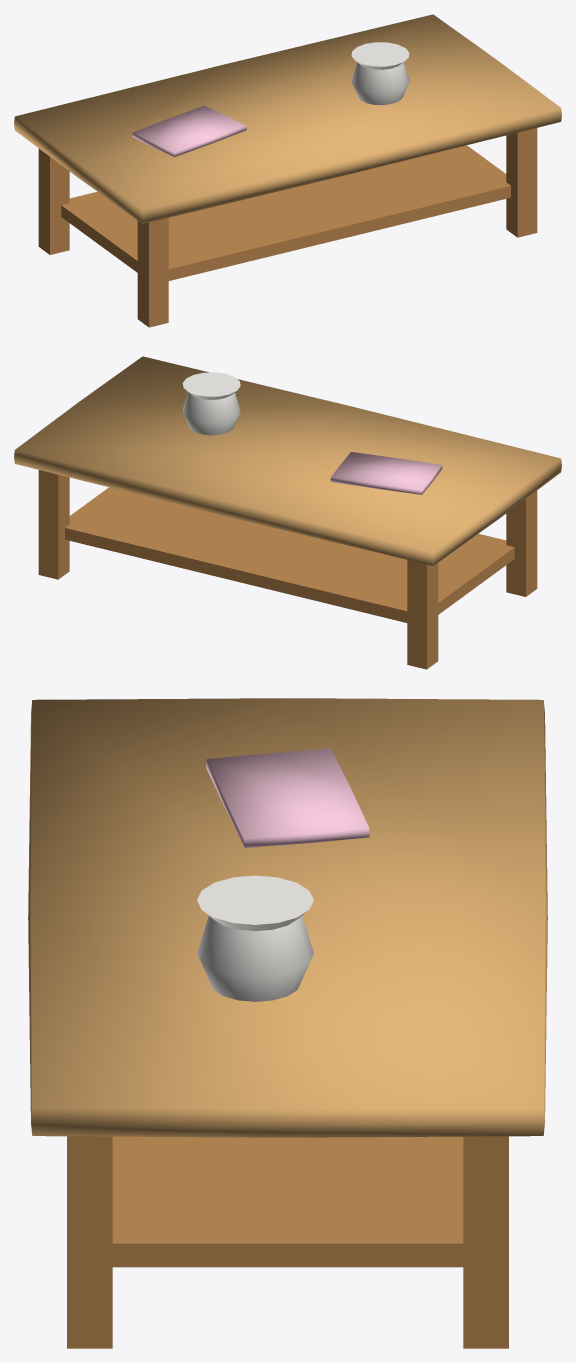
Rendered from coffee_table.glb.
3 renders of one model, top to bottom at view 1: azimuth 30°, elevation 25°; view 2: azimuth 150°, elevation 25°; view 3: azimuth 270°, elevation 25°, orthographic. The views are drawn at different scales.
Parts seen in each view (by area): view 1: root; view 2: root; view 3: root.
Part boxes in pixels (x1,y1,x2,y2): root: [14, 14, 561, 327]; root: [14, 356, 561, 669]; root: [28, 698, 547, 1348].
Bounding box in the file's own units: 1.5 × 0.58 × 0.8.
